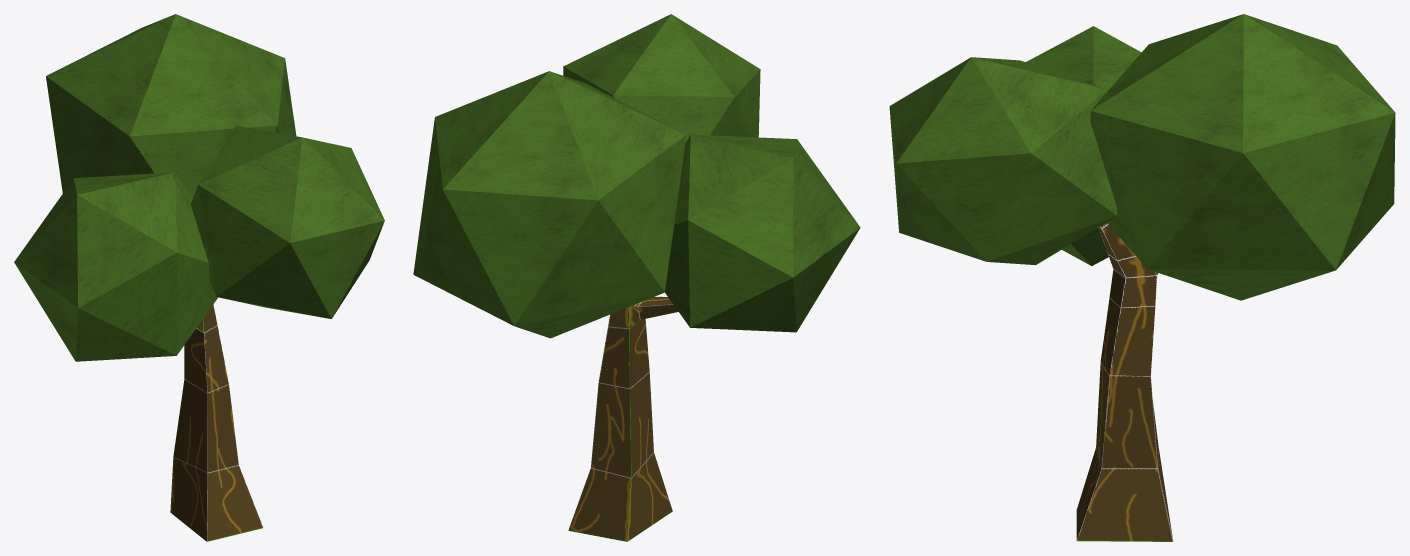
The model's file is Tree_FBX_2.FBX.
3 renders of one model, left to right at view 1: azimuth 30°, elevation 25°; view 2: azimuth 150°, elevation 25°; view 3: azimuth 270°, elevation 25°, orthographic. The views are drawn at different scales.
Parts seen in each view (by area): view 1: Tree; view 2: Tree; view 3: Tree.
Boxes of the visible parts, x1,y1,x2,y2 form: Tree: (14,14,384,541); Tree: (413,14,860,541); Tree: (889,14,1395,541).
Size of the model in its own units: 130 by 189 by 166.
Materials: 2 (2 with a texture image).
